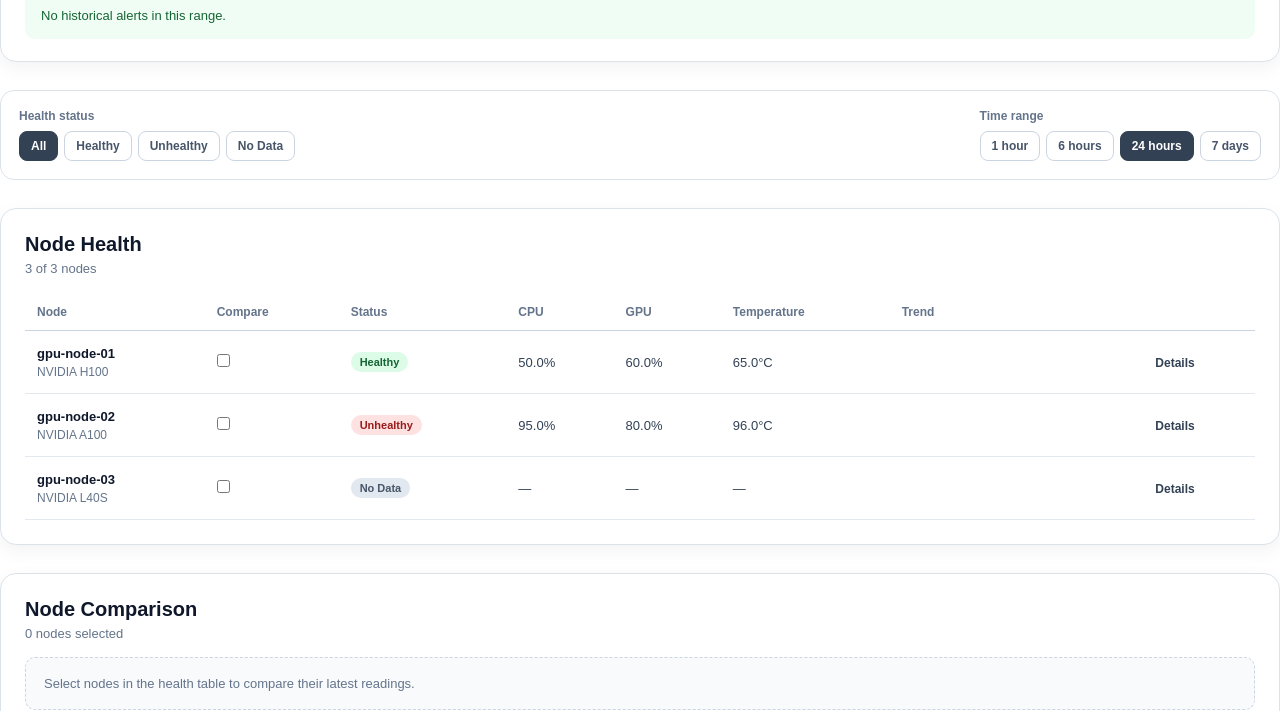
Test: HealthDashboard › compares metrics side by side for multiple selected nodes
The image size is (1280, 711).
(page scrolled)
What coordinates should you click on to do the following:
click the checkbox named "Compare gpu-node-01"
I would click on:
 (223, 360)
Its box is top-left (217, 354), bottom-right (230, 367).
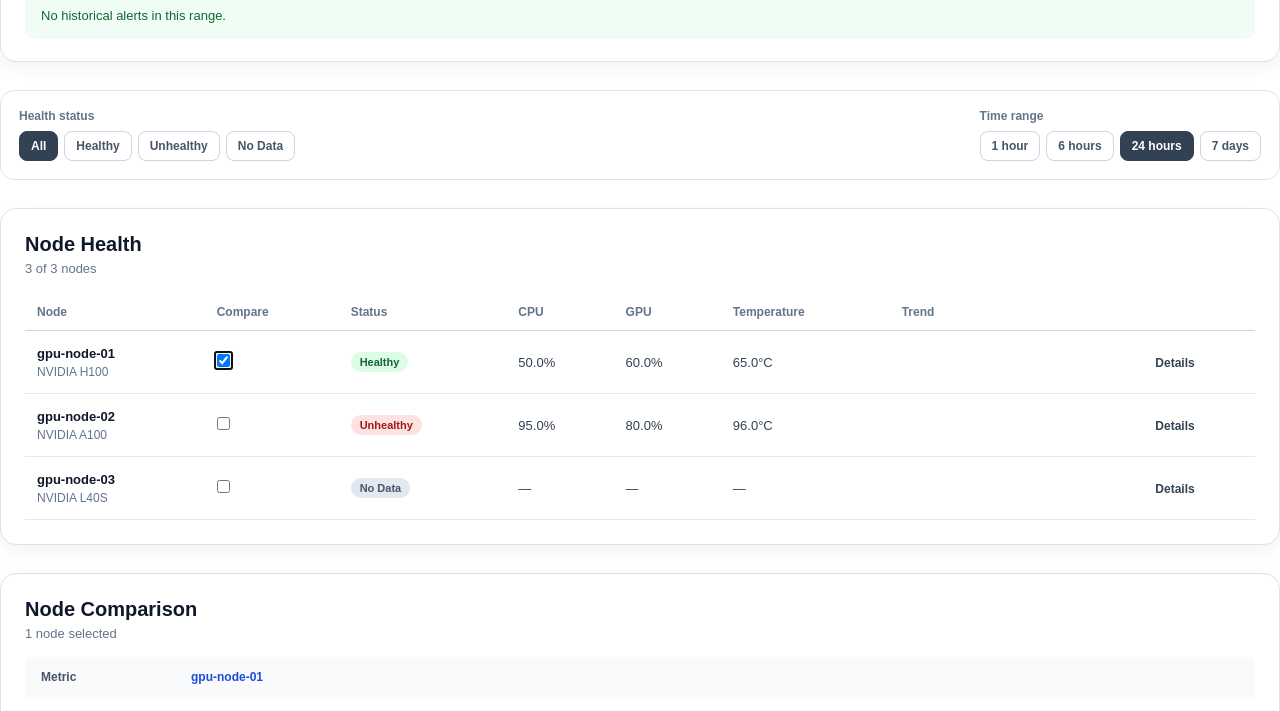
What coordinates should you click on to do the following:
click the checkbox named "Compare gpu-node-02"
I would click on:
 (223, 424)
Its box is top-left (217, 417), bottom-right (230, 430).
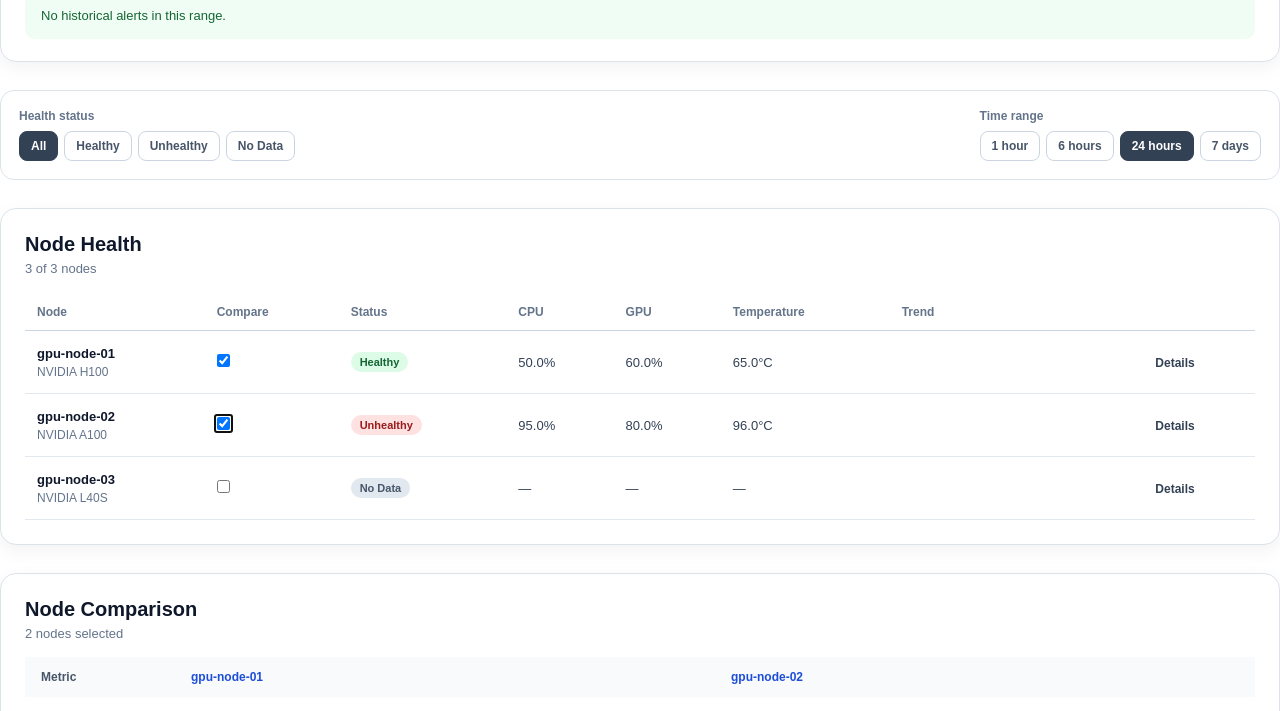
Result: the table named "Node comparison" shows "gpu-node-01" at top-left (191, 670), bottom-right (263, 684)
Result: the table named "Node comparison" shows "gpu-node-02" at top-left (731, 670), bottom-right (803, 684)
